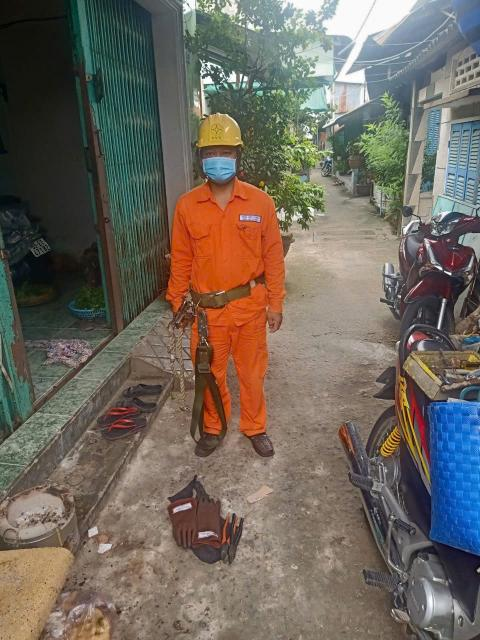harness: (168, 270, 282, 315)
helmet: (182, 106, 256, 163)
shoes: (171, 416, 222, 468), (242, 426, 285, 456)
